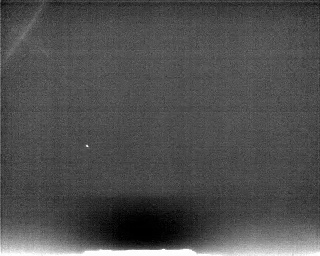BIRD: (84, 142, 91, 151)
